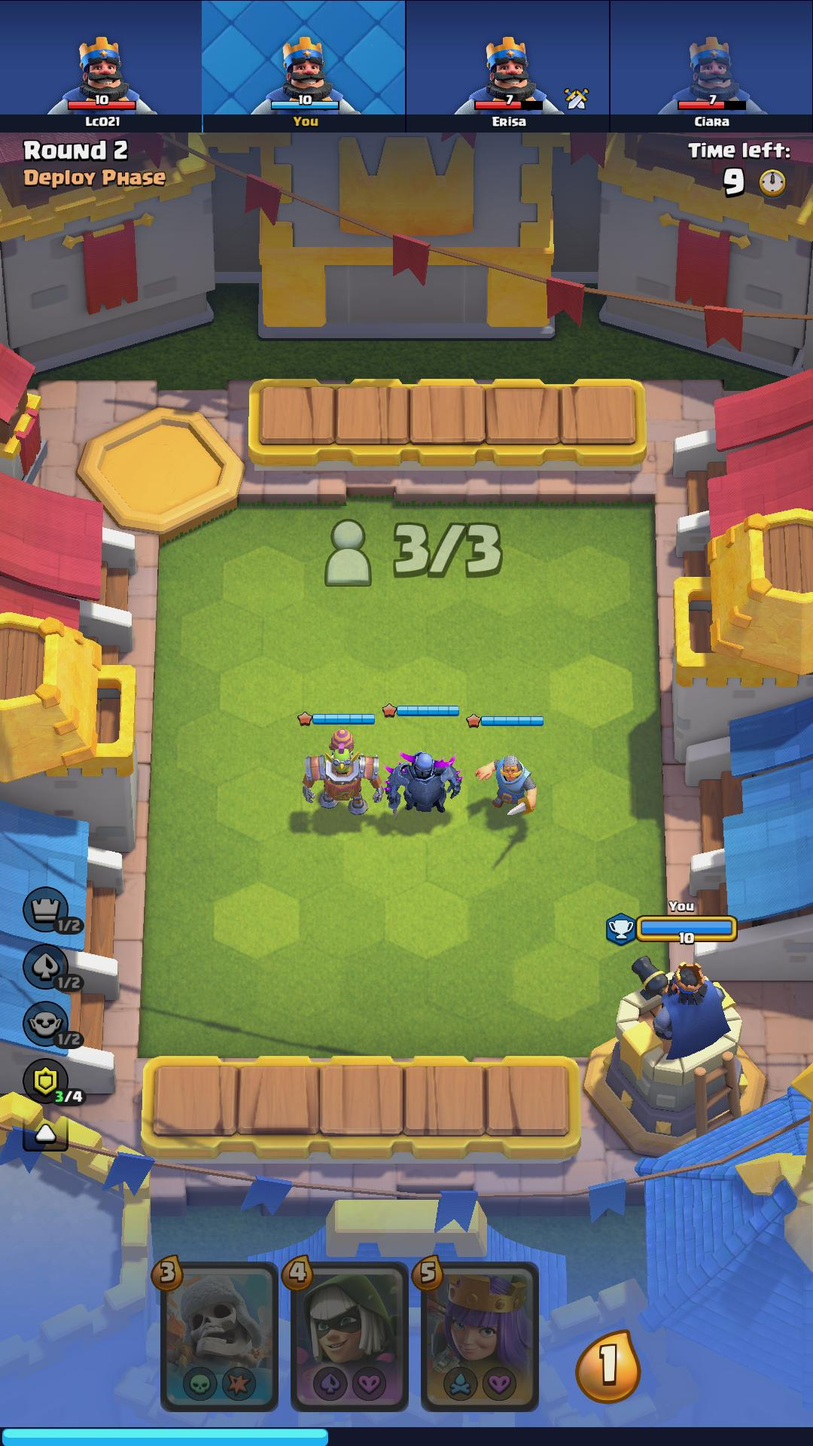hand-bandit: (296, 1261, 408, 1408)
hand-giant: (164, 1267, 275, 1410)
hand-queen: (422, 1264, 534, 1407)
knight: (467, 743, 542, 825)
machine: (292, 724, 385, 820)
pekka: (381, 731, 464, 818)
